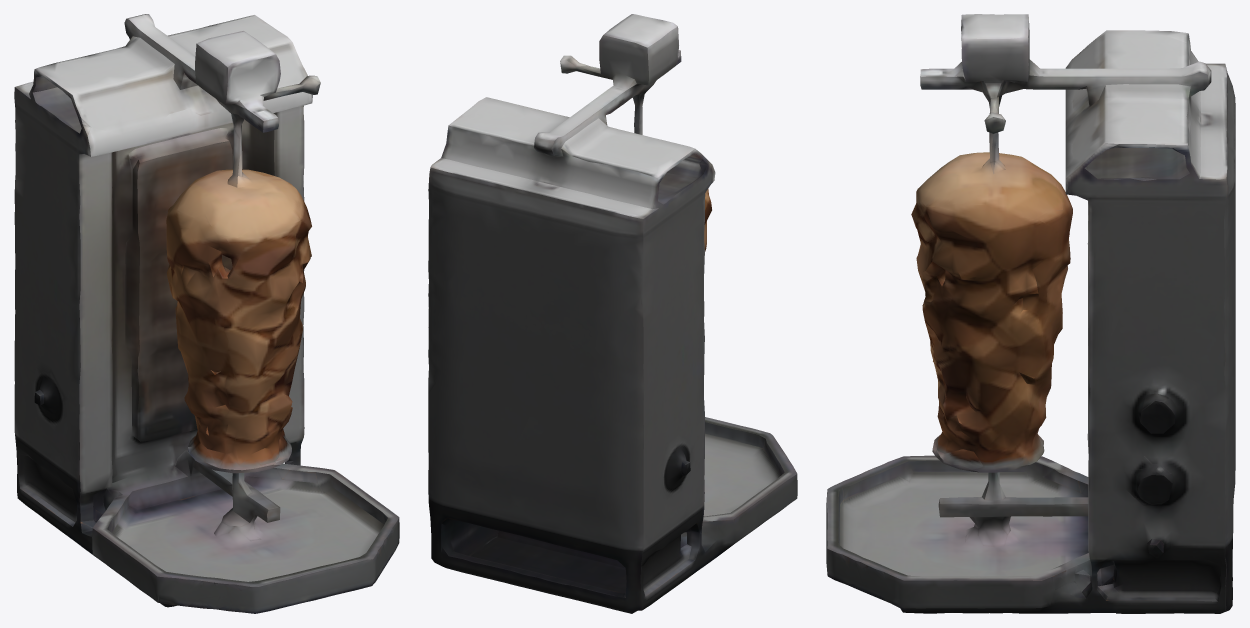
The model's file is doner_machine.glb.
3 views of the same model, side by side, from view 1: azimuth 30°, elevation 25°; view 2: azimuth 150°, elevation 25°; view 3: azimuth 270°, elevation 25° (orthographic). The views are drawn at different scales.
Visible parts, largest first — view 1: DonerKebabMachine; view 2: DonerKebabMachine; view 3: DonerKebabMachine.
Boxes of the visible parts, x1,y1,x2,y2 form: DonerKebabMachine: (14, 14, 399, 613); DonerKebabMachine: (428, 14, 797, 613); DonerKebabMachine: (826, 14, 1235, 613).
Bounding box in the file's own units: 0.4722 × 0.9 × 0.6166.
1 material, 1 textured.
